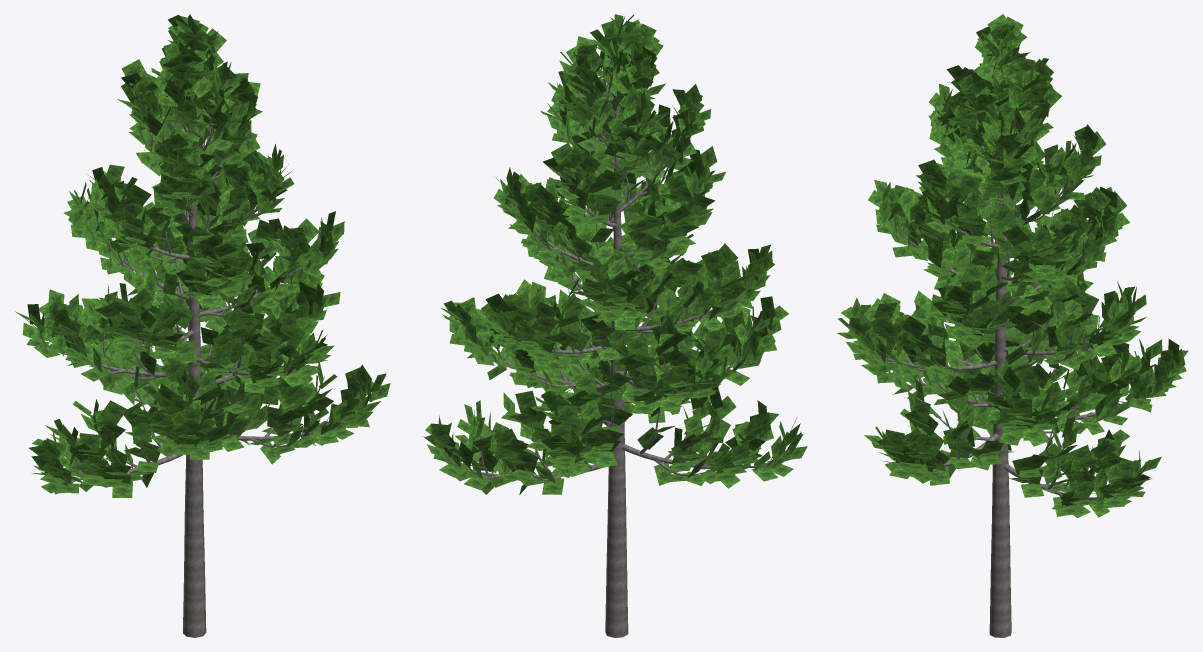
Rendered from tree.triangulated.obj.
3 views of the same model, side by side, from view 1: azimuth 30°, elevation 25°; view 2: azimuth 150°, elevation 25°; view 3: azimuth 270°, elevation 25° (orthographic). The views are drawn at different scales.
Parts seen in each view (by area): view 1: tree_Mesh; view 2: tree_Mesh; view 3: tree_Mesh.
Part boxes in pixels (bbox=[...]): tree_Mesh: bbox=[15, 14, 390, 637]; tree_Mesh: bbox=[421, 14, 807, 637]; tree_Mesh: bbox=[837, 14, 1188, 637].
Bounding box in the file's own units: 28.65 × 51.49 × 26.93.
